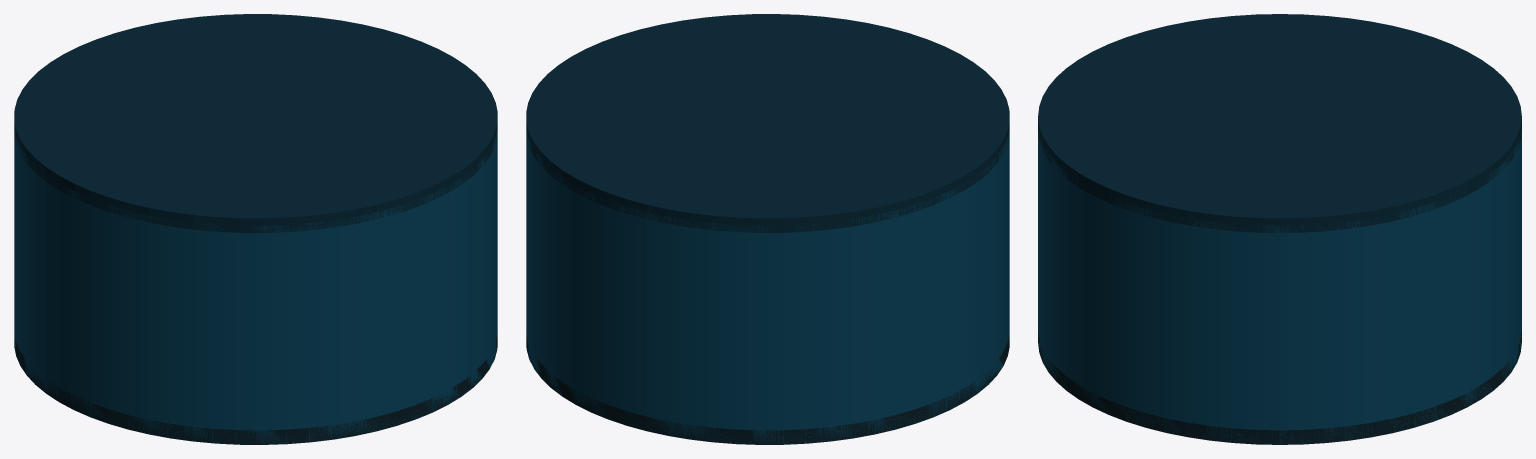
The model's file is VRStudio_RoundRoom_Alive.fbx.
The picture shows the model from 3 angles, left to right: view 1: azimuth 30°, elevation 25°; view 2: azimuth 150°, elevation 25°; view 3: azimuth 270°, elevation 25°; orthographic projection.
Visible parts, largest first — view 1: Room_Ceiling, Room_Wall_Back, Room_Wall_Right, Room_Wall_Left, Room_Floor; view 2: Room_Ceiling, Room_Wall_Left, Room_Wall_Front, Room_Wall_Back, Room_Floor; view 3: Room_Ceiling, Room_Wall_Right, Room_Wall_Front, Room_Floor.
Part boxes in pixels (left/top/right/bottom): Room_Ceiling: left=14, top=14, right=497, bottom=232; Room_Wall_Back: left=46, top=176, right=376, bottom=444; Room_Wall_Right: left=377, top=129, right=497, bottom=430; Room_Wall_Left: left=14, top=132, right=46, bottom=392; Room_Floor: left=14, top=333, right=497, bottom=444; Room_Ceiling: left=526, top=14, right=1009, bottom=232; Room_Wall_Left: left=647, top=175, right=977, bottom=444; Room_Wall_Front: left=526, top=129, right=646, bottom=430; Room_Wall_Back: left=977, top=132, right=1009, bottom=392; Room_Floor: left=526, top=333, right=1009, bottom=444; Room_Ceiling: left=1038, top=14, right=1521, bottom=232; Room_Wall_Right: left=1038, top=127, right=1279, bottom=444; Room_Wall_Front: left=1280, top=130, right=1521, bottom=444; Room_Floor: left=1038, top=329, right=1521, bottom=444.
Size of the model in its own units: 600 by 310 by 600.
